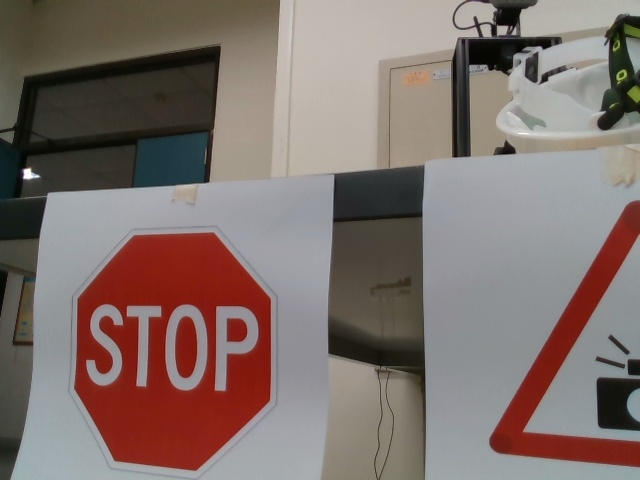stop: (67, 227, 282, 477)
